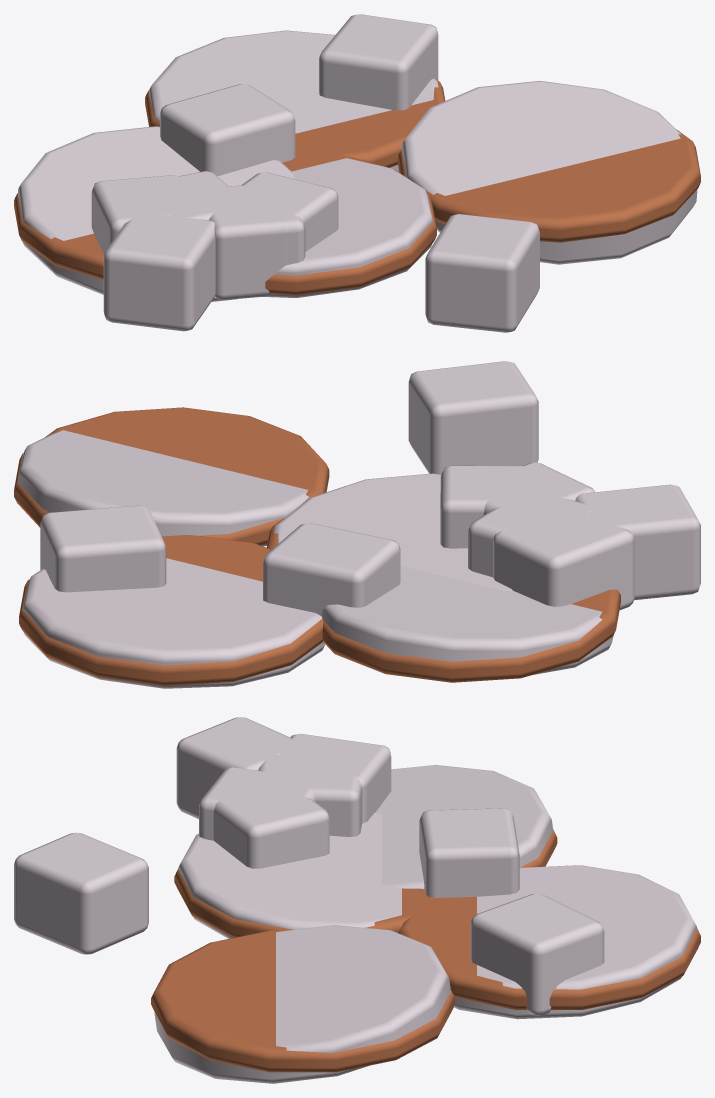
Rendered from Onion_Chopped.glb.
3 views of the same model, one above another, from view 1: azimuth 30°, elevation 25°; view 2: azimuth 150°, elevation 25°; view 3: azimuth 270°, elevation 25° (orthographic). The views are drawn at different scales.
Parts seen in each view (by area): view 1: Onion_Chopped; view 2: Onion_Chopped; view 3: Onion_Chopped.
Part boxes in pixels (x1,y1,x2,y2): Onion_Chopped: (14, 14, 700, 332); Onion_Chopped: (14, 361, 700, 688); Onion_Chopped: (14, 717, 700, 1083).
Size of the model in its own units: 0.1026 by 0.0156 by 0.1017.
